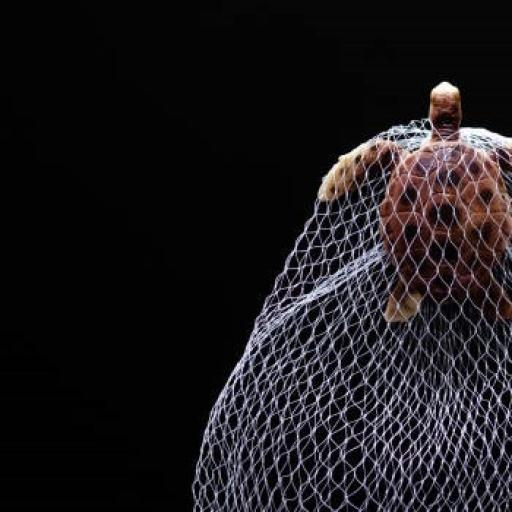net: (200, 234, 512, 511)
